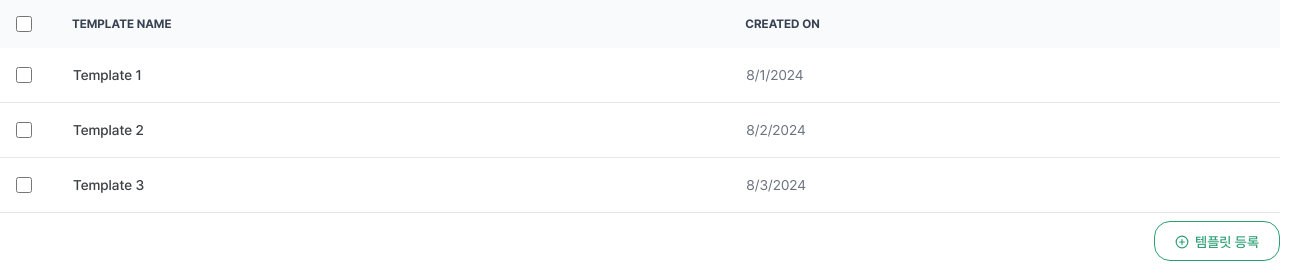
Test: Table 컴포넌트 단위 테스트 › 전체 선택 체크박스를 클릭하면 모든 템플릿이 선택되어야 한다.
This screenshot has width=1292, height=278.
Click the checkbox named "Select all checkboxes" at (24, 24), box [16,16,32,32]
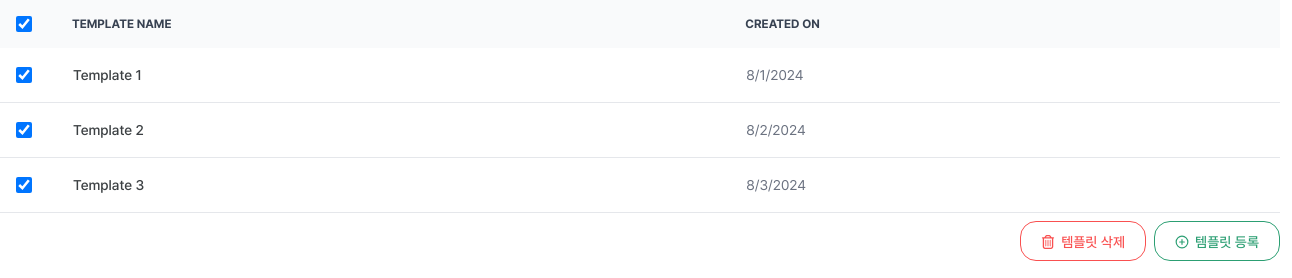
expect the checkbox named "Select all checkboxes" is checked: met, box [16,16,32,32]
expect the checkbox next to "Template 1" is checked: met, box [16,67,32,83]
expect the checkbox next to "Template 2" is checked: met, box [16,122,32,138]
